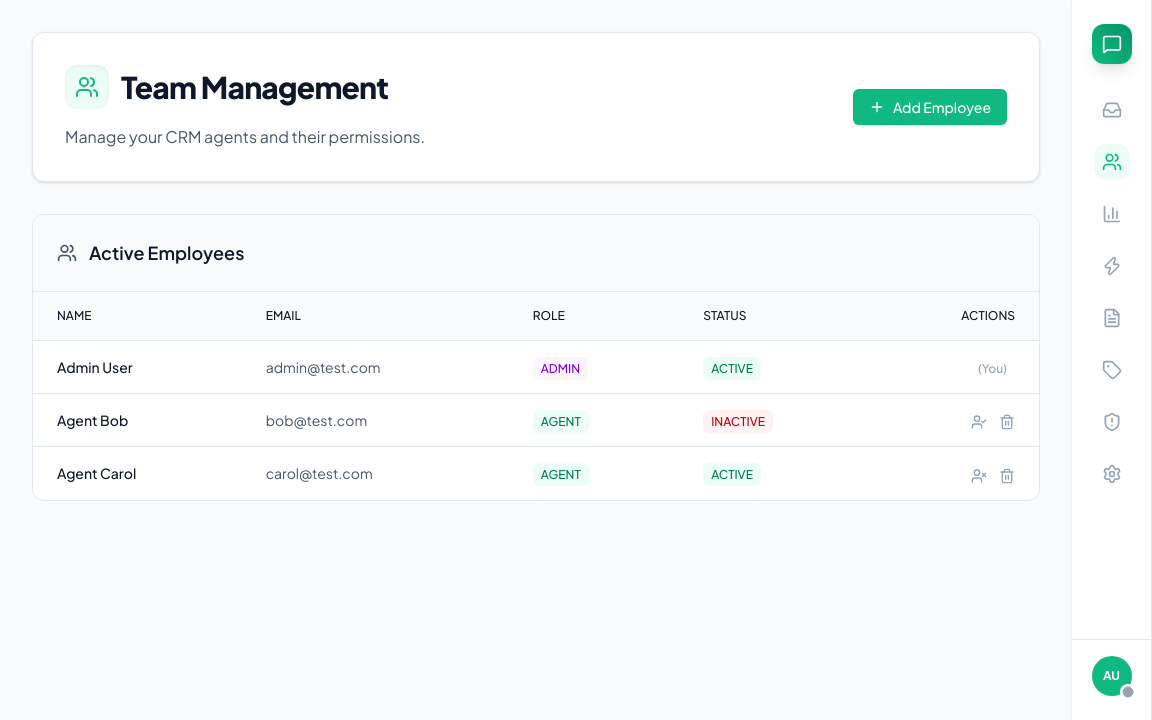
Test: Admin Team Management Page › reactivates an inactive user without needing confirmation
Expected: the text "Agent Bob" is shown, [33,394,242,447]
What coordinates should you click on to do the following:
click the button titled "Reactivate User"
I would click on:
 (979, 420)
Its box is [971,410,987,430].
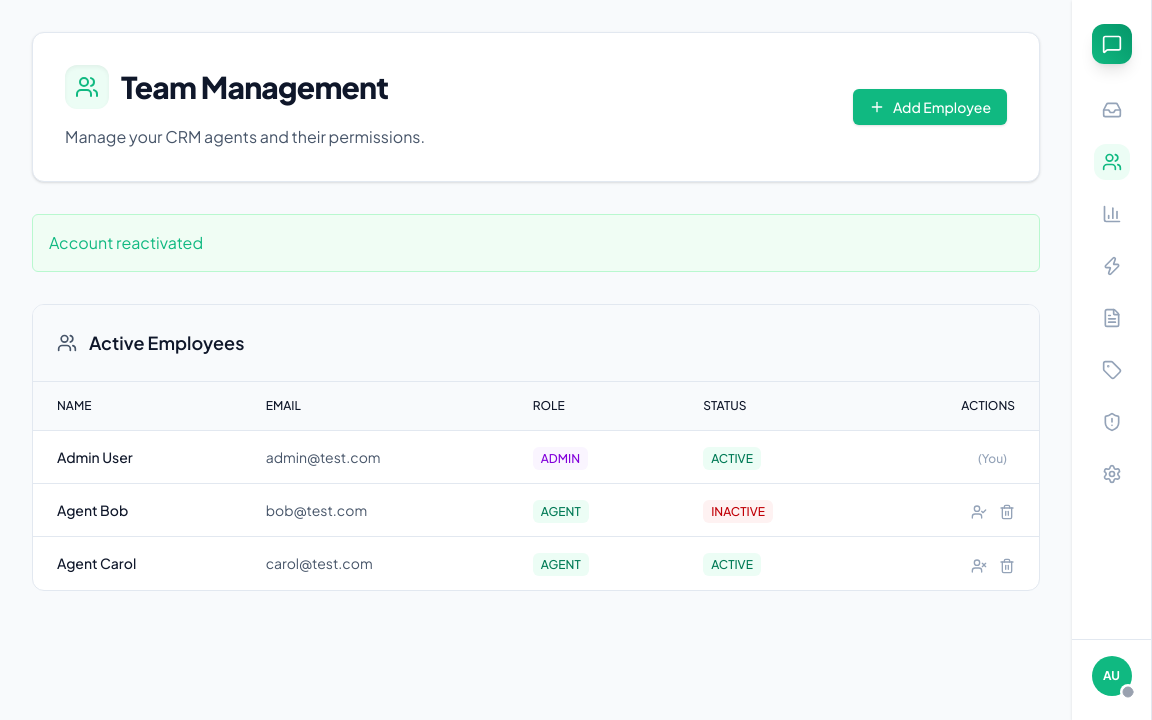
Expected: the text "Account reactivated" is shown, [32,214,1040,272]
